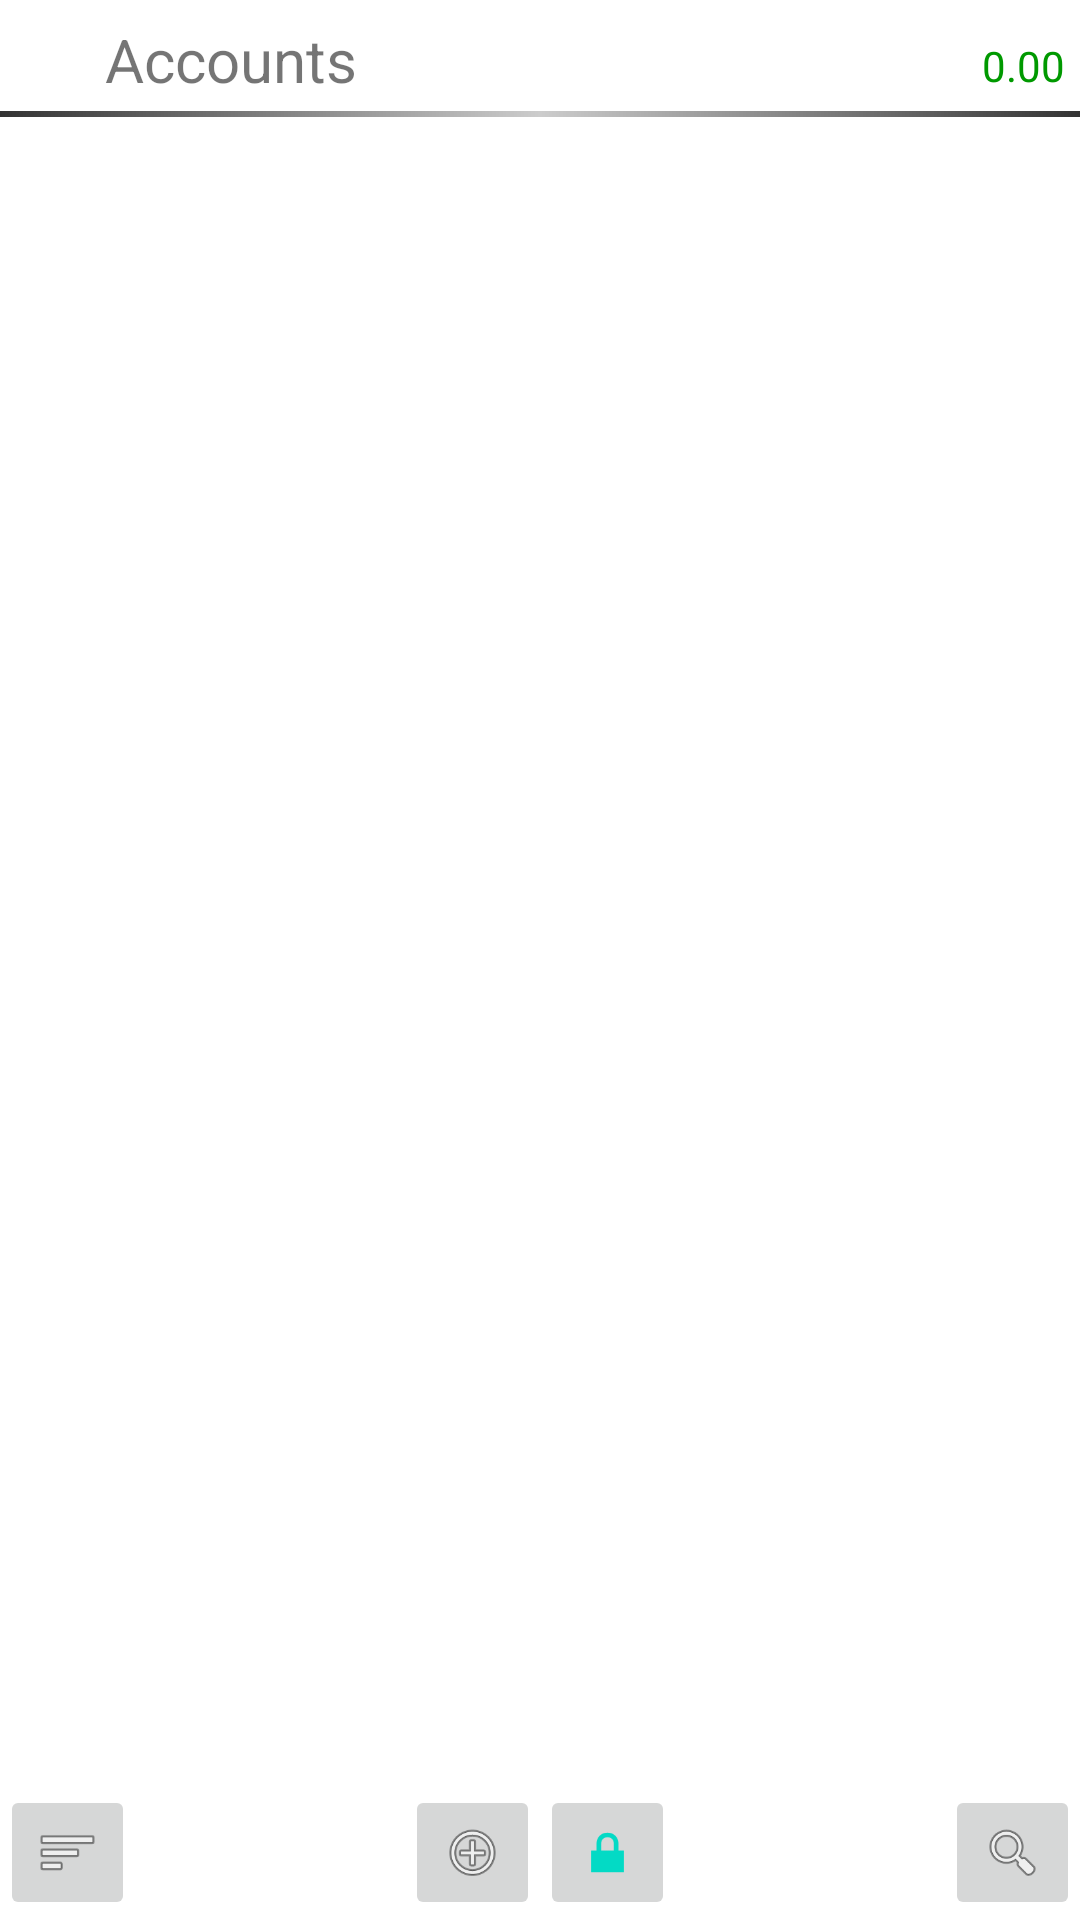

Named icons in this screenshot (1080w x 1920h) and their centers, (x=x, y=y):
add: (x=472, y=1852)
lock: (x=607, y=1852)
search: (x=1012, y=1852)
sort by size: (x=67, y=1852)
